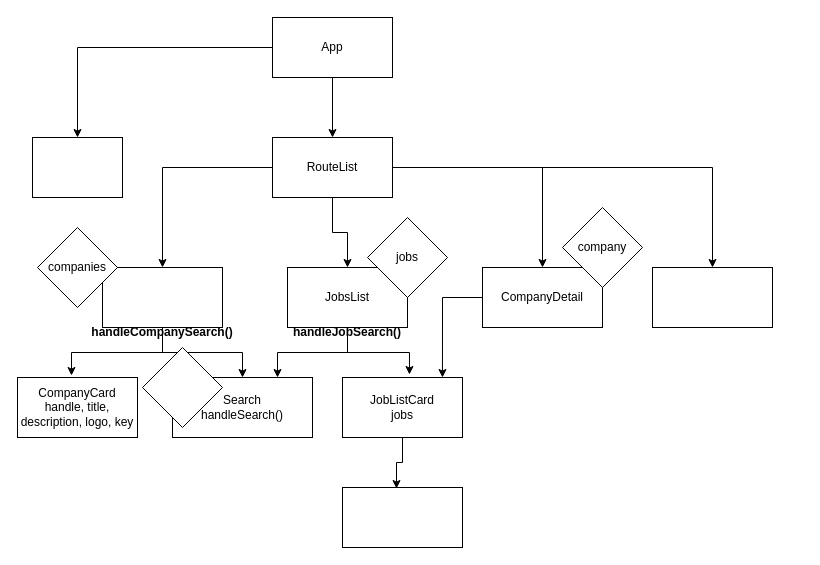
Some shapes in this 820 by 565 pixel diagram are drawn without their labels. The box of each missing label's shape, as (x1, y1, x2, y2) in pixels:
CompanyList: (102, 266, 222, 328)
formData: (142, 346, 222, 428)
Header: (32, 136, 122, 198)
HomePage: (652, 266, 772, 328)
JobCard id, title, salary, key, company, equity: (342, 486, 462, 548)
